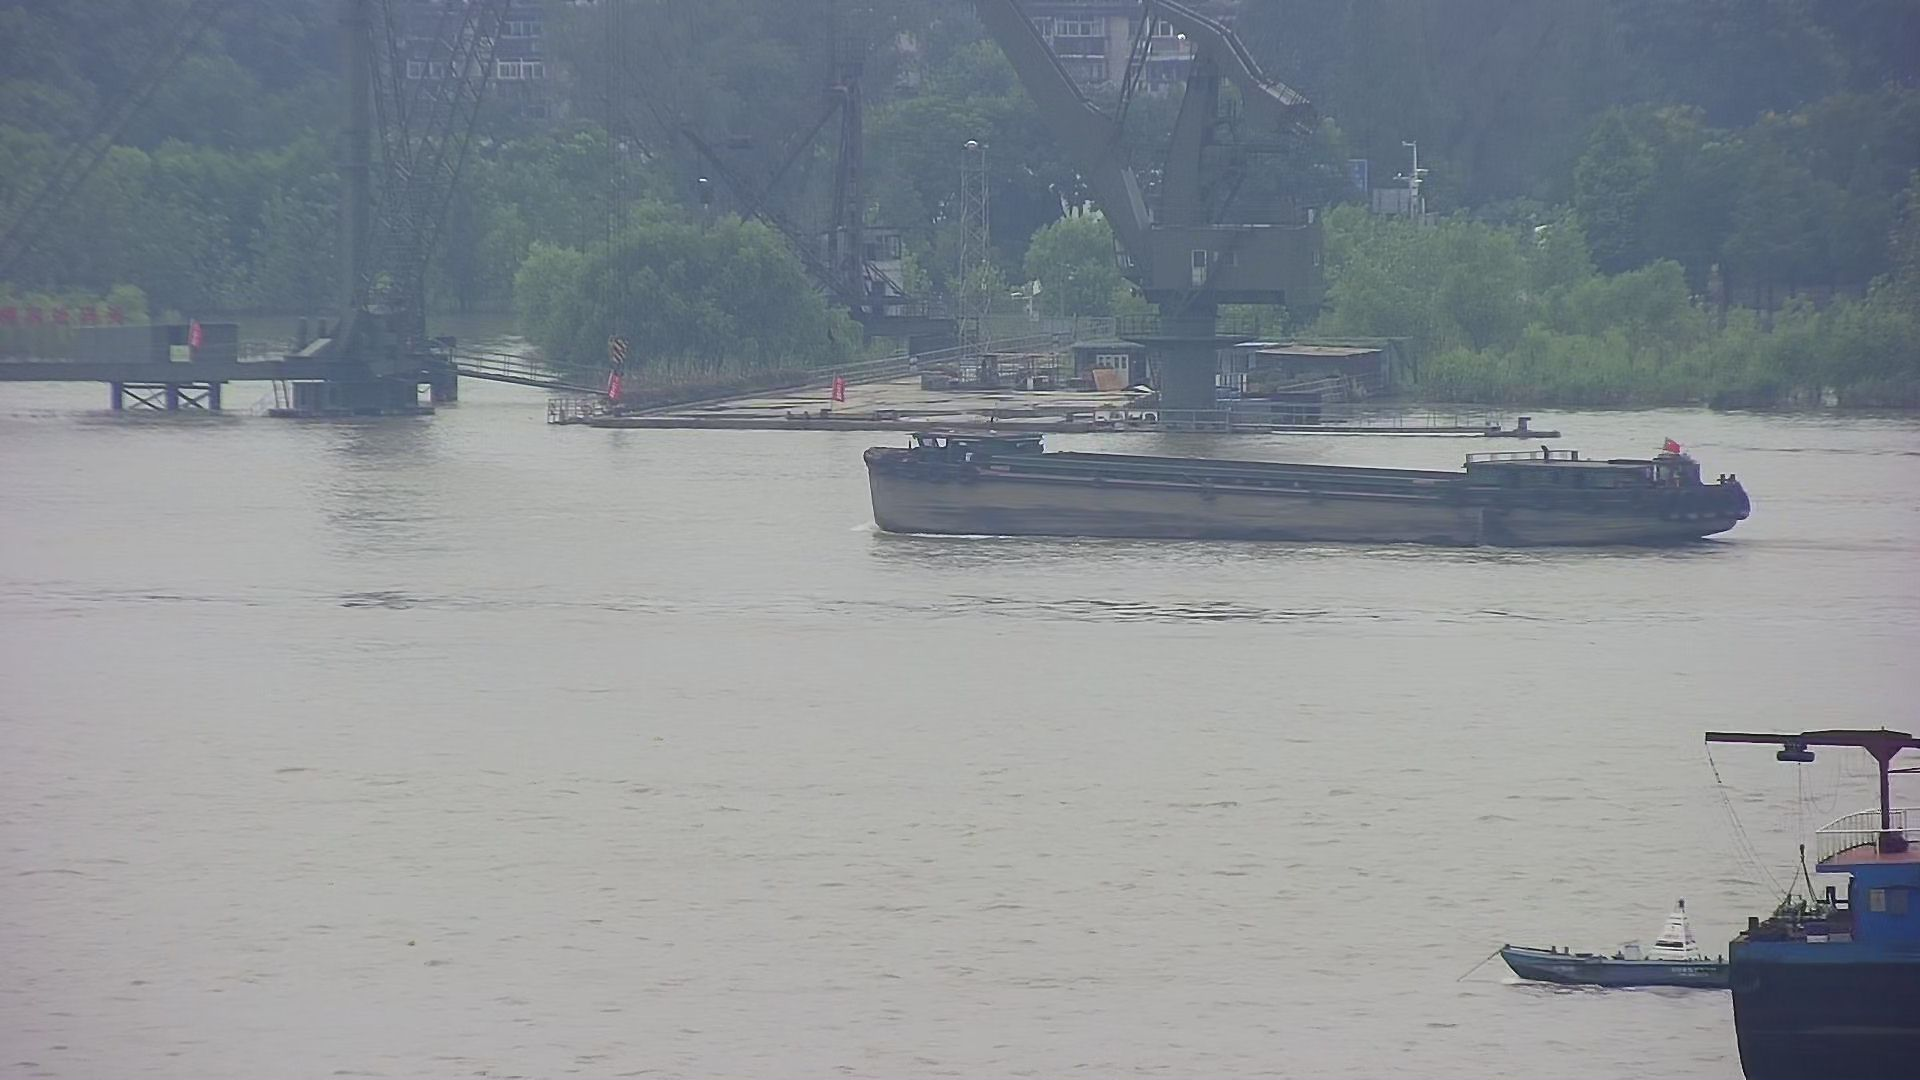boat: (1465, 889, 1741, 996)
platform: (1, 1, 492, 439)
ship: (851, 415, 1764, 563)
